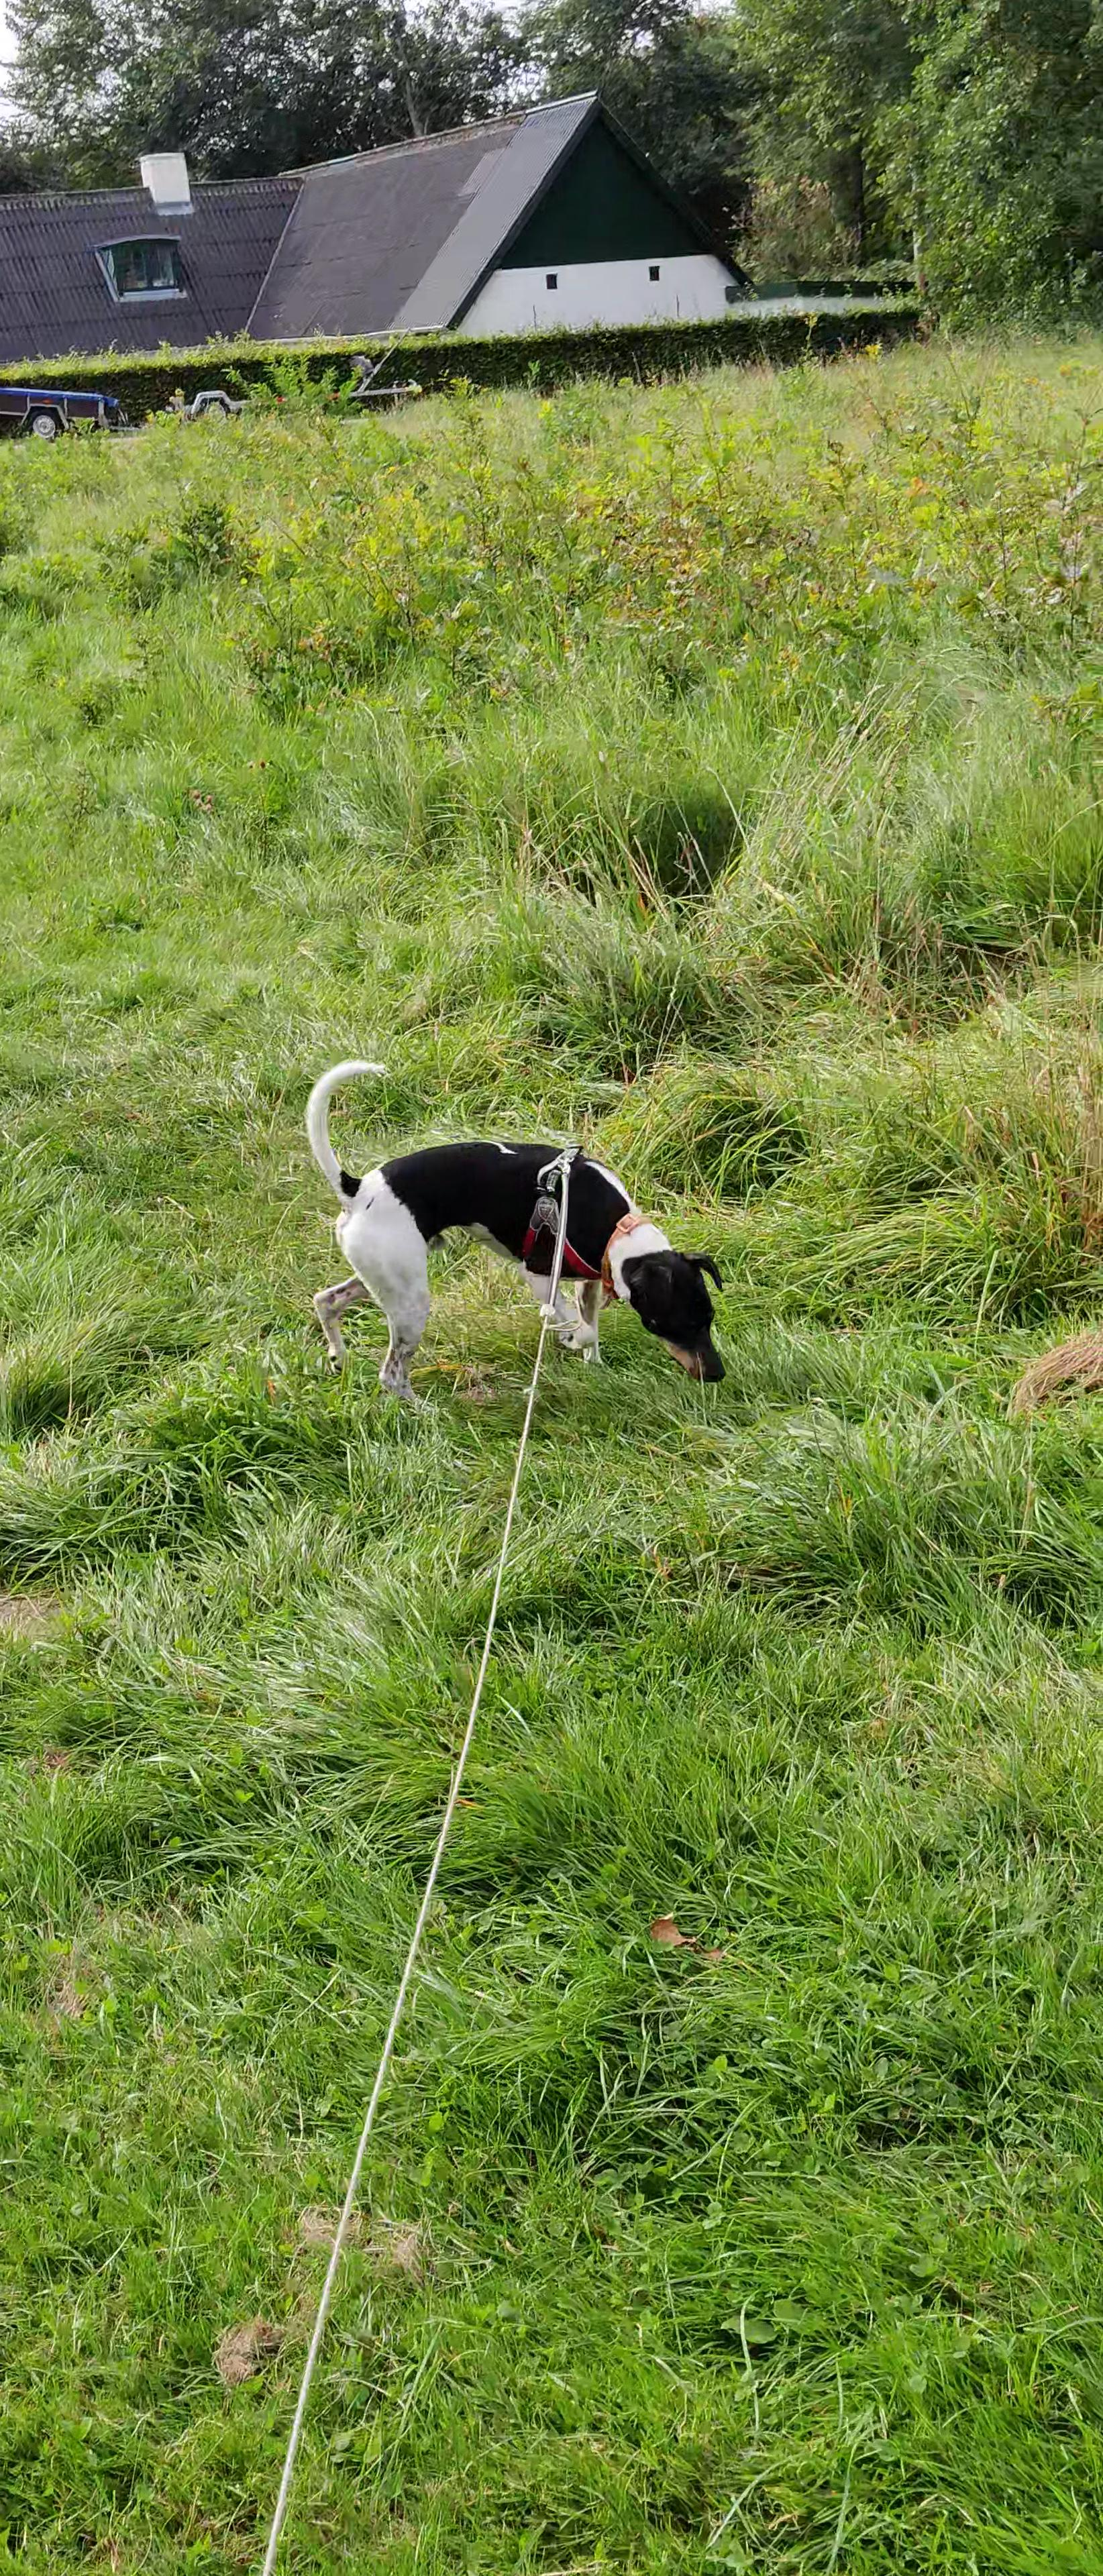Dog: (302, 1050, 728, 1414)
